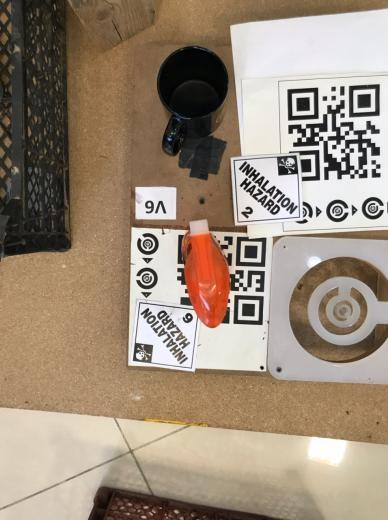poison: (233, 154, 301, 223), (132, 301, 200, 369)
